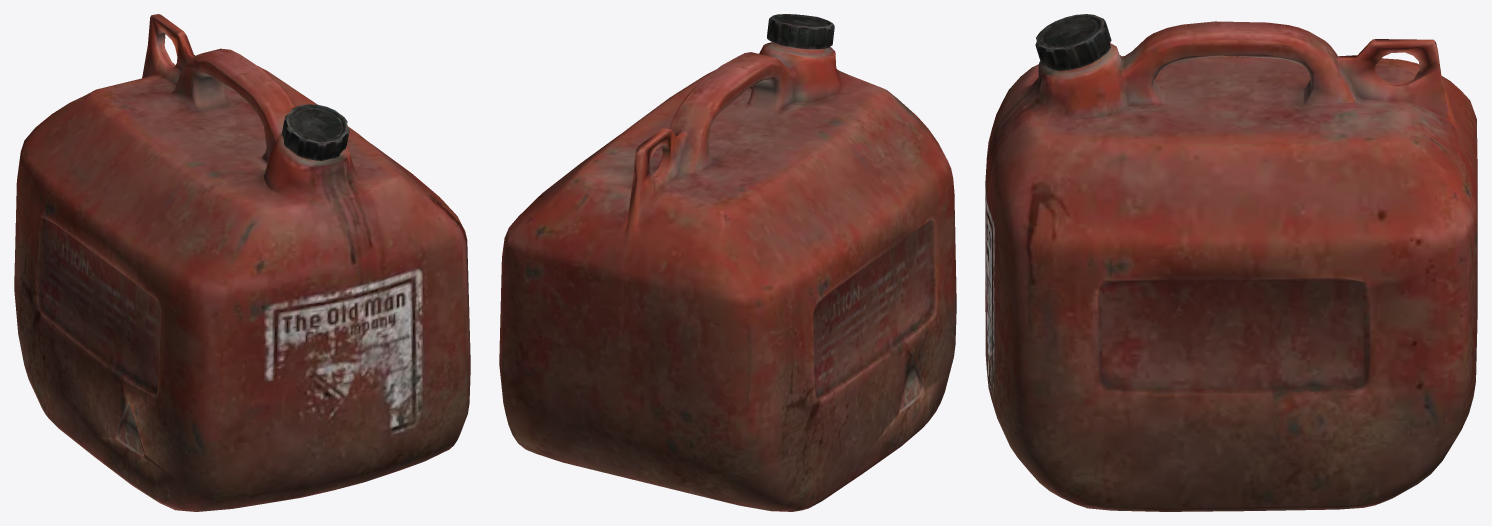
The model's file is plastic_jerrycan.glb.
The picture shows the model from 3 angles, left to right: view 1: azimuth 30°, elevation 25°; view 2: azimuth 150°, elevation 25°; view 3: azimuth 270°, elevation 25°; orthographic projection. The views are drawn at different scales.
Visible parts, largest first — view 1: plastic_jerrycan; view 2: plastic_jerrycan; view 3: plastic_jerrycan.
Boxes of the visible parts, x1=… form: plastic_jerrycan: x1=14, y1=14, x2=470, y2=511; plastic_jerrycan: x1=499, y1=14, x2=956, y2=511; plastic_jerrycan: x1=985, y1=14, x2=1477, y2=511.
Size of the model in its own units: 0.268 by 0.3184 by 0.3406.
1 material, 1 textured.
